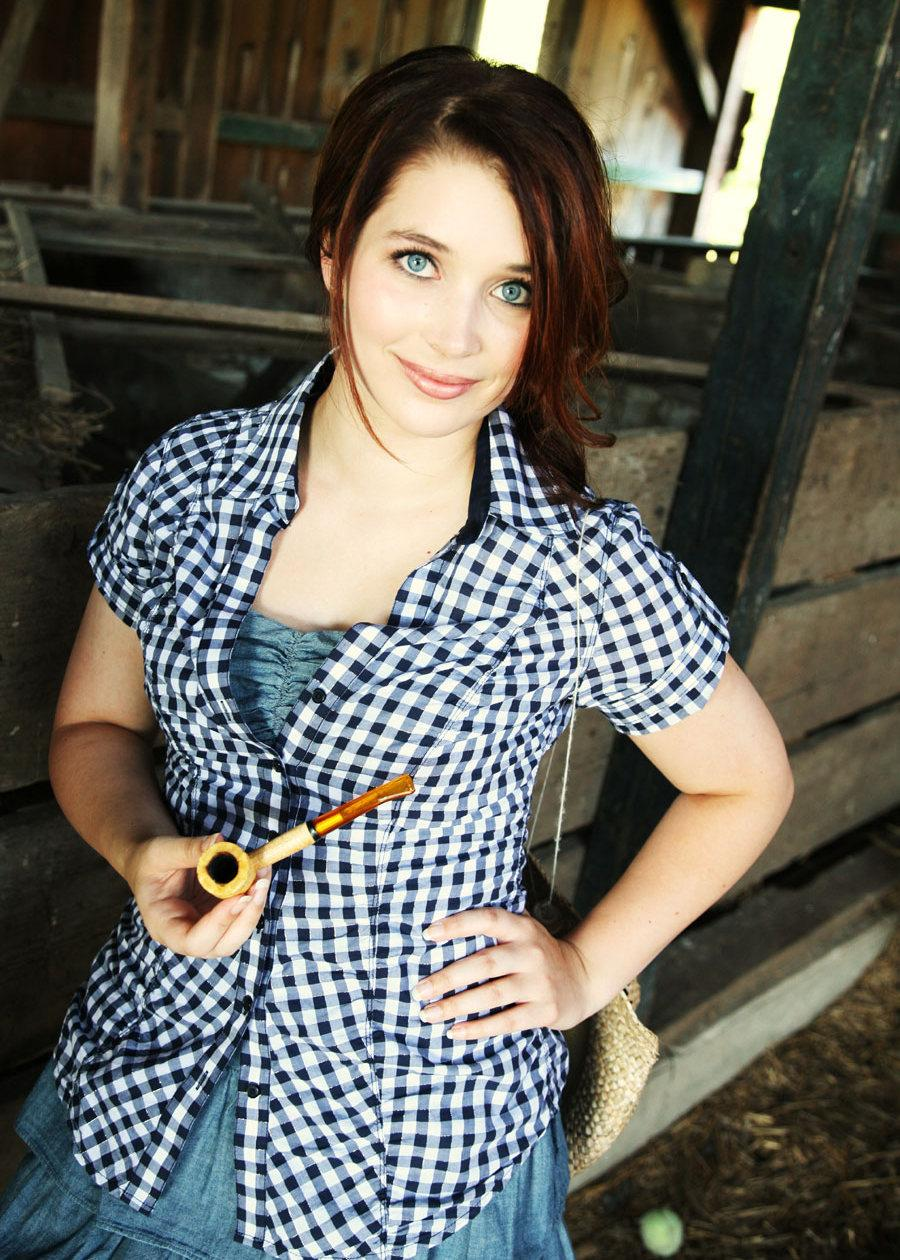trubka: (197, 775, 414, 899)
